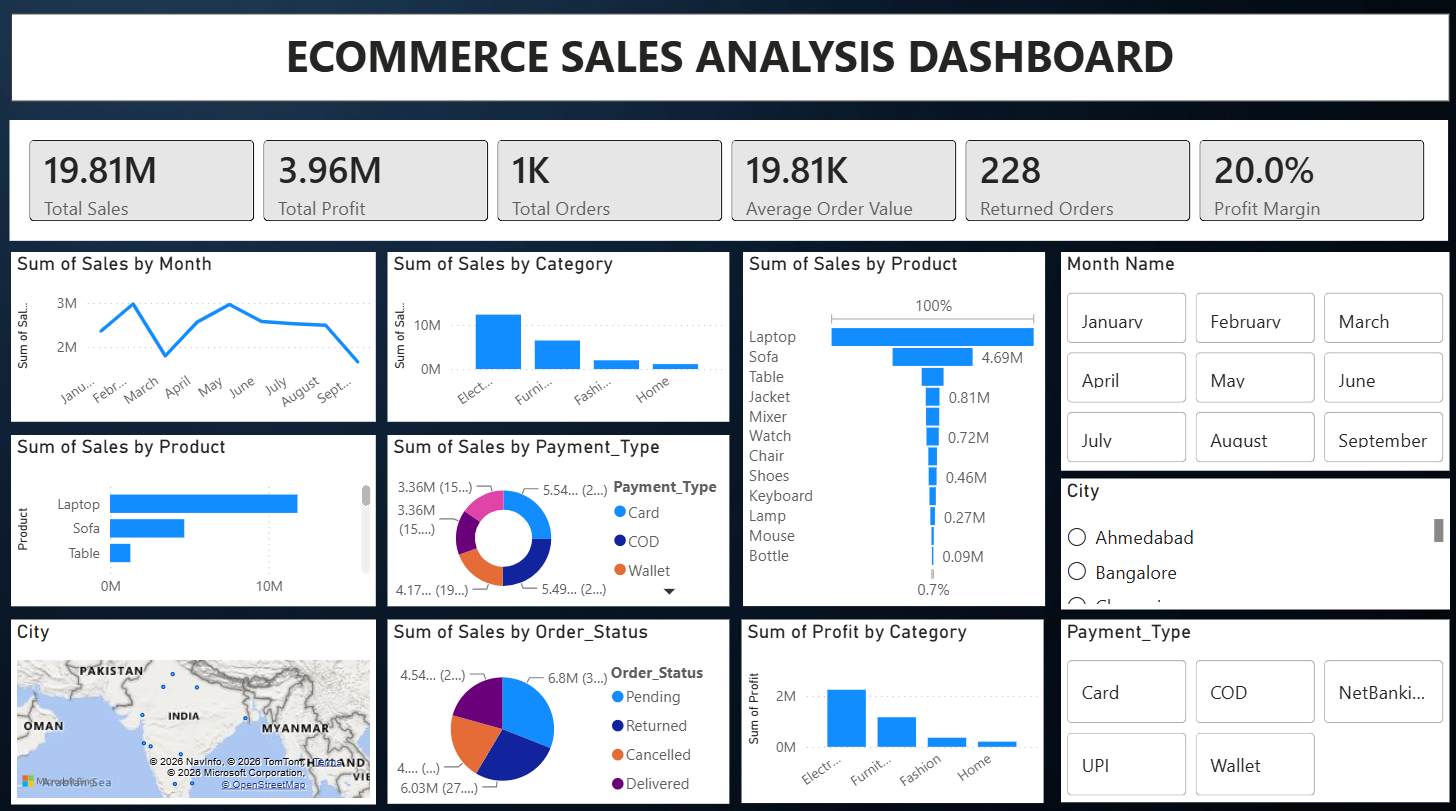

What the dashboard file says about the page in this screenshot:
{"tool":"powerbi","page":{"name":"Page 1","canvas":[1280,720],"ordinal":0},"visuals":[{"type":"cardVisual","fields":{"Data":["Dax Measures.Total Sales","Dax Measures.Total Profit","Dax Measures.Total Orders","Dax Measures.Average Order Value","Dax Measures.Returned Orders","Dax Measures.Profit Margin"]},"box":[12.2,109.4,1253.8,105.5],"z":0},{"type":"textbox","box":[12.6,17.3,1253.7,77],"z":1000},{"type":"lineChart","title":"Sum of Sales by Month","fields":{"Category":["ecommerce orders.Month Name"],"Y":["Sum(ecommerce orders.Sales)"]},"box":[12.6,225.2,318.2,148.1],"z":2000},{"type":"columnChart","fields":{"Category":["ecommerce orders.Category"],"Y":["Sum(ecommerce orders.Sales)"]},"box":[341.8,225.2,297.7,148.1],"z":3000},{"type":"barChart","fields":{"Category":["ecommerce orders.Product"],"Y":["Sum(ecommerce orders.Sales)"]},"box":[12.6,384.3,318.2,149.6],"z":4000},{"type":"donutChart","fields":{"Category":["ecommerce orders.Payment_Type"],"Y":["Sum(ecommerce orders.Sales)"]},"box":[341.8,384.3,297.7,149.6],"z":5000},{"type":"pieChart","fields":{"Category":["ecommerce orders.Order_Status"],"Y":["Sum(ecommerce orders.Sales)"]},"box":[341.8,545,297.7,160.7],"z":6000},{"type":"funnel","fields":{"Category":["ecommerce orders.Product"],"Y":["Sum(ecommerce orders.Sales)"]},"box":[650.5,225.2,263,308.7],"z":7000},{"type":"columnChart","fields":{"Category":["ecommerce orders.Category"],"Y":["Sum(ecommerce orders.Profit)"]},"box":[650.1,544.8,263.3,160],"z":8000},{"type":"map","fields":{"Category":["ecommerce orders.City"]},"box":[12.6,545,318.2,160.7],"z":9000},{"type":"advancedSlicerVisual","fields":{"Values":["ecommerce orders.Month Name"]},"box":[927.7,225.2,338.6,190.6],"z":10000},{"type":"listSlicer","fields":{"Values":["ecommerce orders.City"]},"box":[927.7,422.1,338.6,113.4],"z":11000},{"type":"advancedSlicerVisual","fields":{"Values":["ecommerce orders.Payment_Type"]},"box":[927.7,545,338.6,159.1],"z":12000}]}

Visuals, with their boxes in screenshot pixels (x1, y1, x2, y2), scaled from the page's 1280x720 canvas onto the 1456x811 screenshot:
cardVisual - Dax Measures.Total Sales x Dax Measures.Total Profit: select_region(14, 123, 1440, 242)
textbox: select_region(14, 19, 1440, 106)
"Sum of Sales by Month" lineChart: select_region(14, 254, 376, 420)
columnChart - ecommerce orders.Category x Sum(ecommerce orders.Sales): select_region(389, 254, 727, 420)
barChart - ecommerce orders.Product x Sum(ecommerce orders.Sales): select_region(14, 433, 376, 601)
donutChart - ecommerce orders.Payment_Type x Sum(ecommerce orders.Sales): select_region(389, 433, 727, 601)
pieChart - ecommerce orders.Order_Status x Sum(ecommerce orders.Sales): select_region(389, 614, 727, 795)
funnel - ecommerce orders.Product x Sum(ecommerce orders.Sales): select_region(740, 254, 1039, 601)
columnChart - ecommerce orders.Category x Sum(ecommerce orders.Profit): select_region(739, 614, 1039, 794)
map - ecommerce orders.City: select_region(14, 614, 376, 795)
advancedSlicerVisual - ecommerce orders.Month Name: select_region(1055, 254, 1440, 468)
listSlicer - ecommerce orders.City: select_region(1055, 475, 1440, 603)
advancedSlicerVisual - ecommerce orders.Payment_Type: select_region(1055, 614, 1440, 793)
